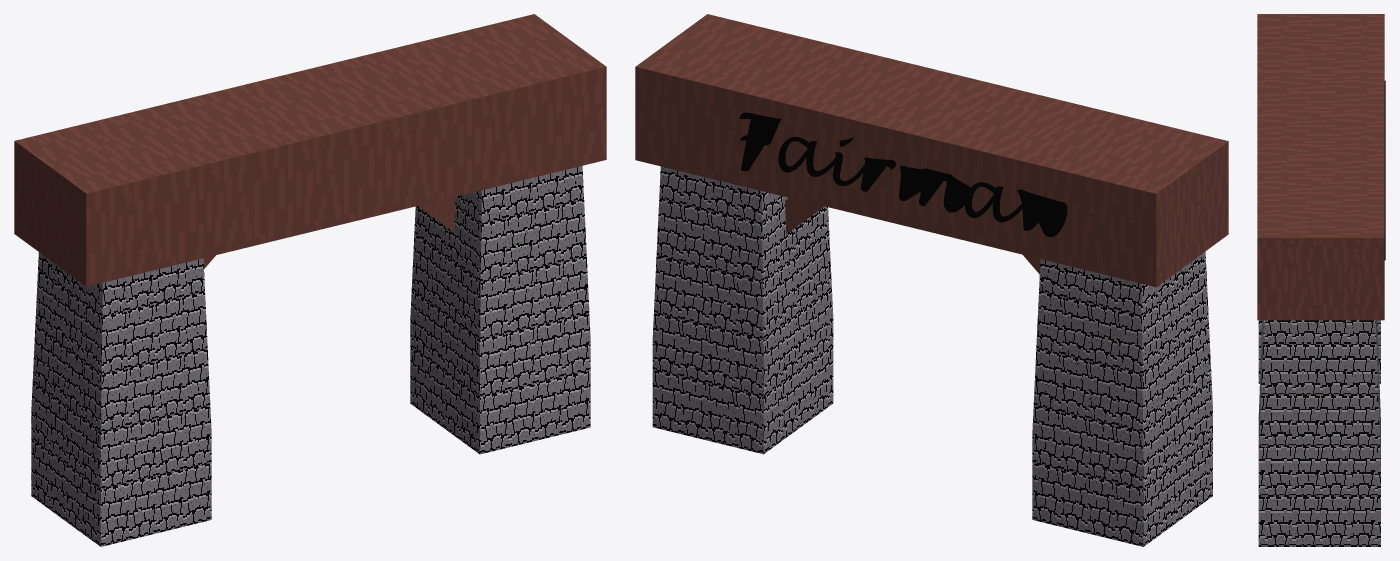
Rendered from VillageArchway.fbx.
The picture shows the model from 3 angles, left to right: view 1: azimuth 30°, elevation 25°; view 2: azimuth 150°, elevation 25°; view 3: azimuth 270°, elevation 25°; orthographic projection. The views are drawn at different scales.
Parts seen in each view (by area): view 1: VilliageWoodSign, VillageArchwayPillarR, VillageArchwayPillarL, VilliageWoodBraceL; view 2: VilliageWoodSign, VillageArchwayPillarR, VillageArchwayPillarL, VillageName, VilliageWoodBraceL; view 3: VilliageWoodSign, VillageArchwayPillarL, VillageArchwayPillarR, VillageName.
Part boxes in pixels (x1,y1,x2,y2): VilliageWoodSign: (14, 14, 606, 286); VillageArchwayPillarR: (31, 252, 211, 546); VillageArchwayPillarL: (410, 166, 590, 454); VilliageWoodBraceL: (418, 197, 455, 232); VilliageWoodSign: (635, 14, 1228, 287); VillageArchwayPillarR: (1032, 251, 1212, 546); VillageArchwayPillarL: (652, 166, 833, 454); VillageName: (739, 112, 1067, 237); VilliageWoodBraceL: (785, 197, 823, 233); VilliageWoodSign: (1257, 14, 1384, 320); VillageArchwayPillarL: (1258, 320, 1380, 546); VillageArchwayPillarR: (1258, 320, 1380, 383); VillageName: (1384, 80, 1385, 260).
Bounding box in the file's own units: 6152 × 4041 × 1487.
3 materials, 2 textured.
